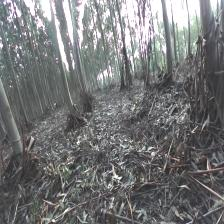trunk: (50, 9, 75, 113), (0, 77, 25, 163), (73, 32, 88, 101), (160, 2, 174, 73)
